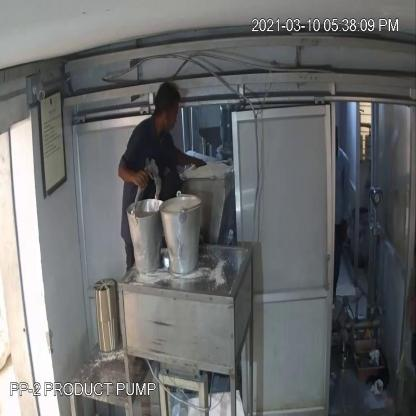no_glove: (170, 146, 216, 178), (118, 159, 155, 192)
